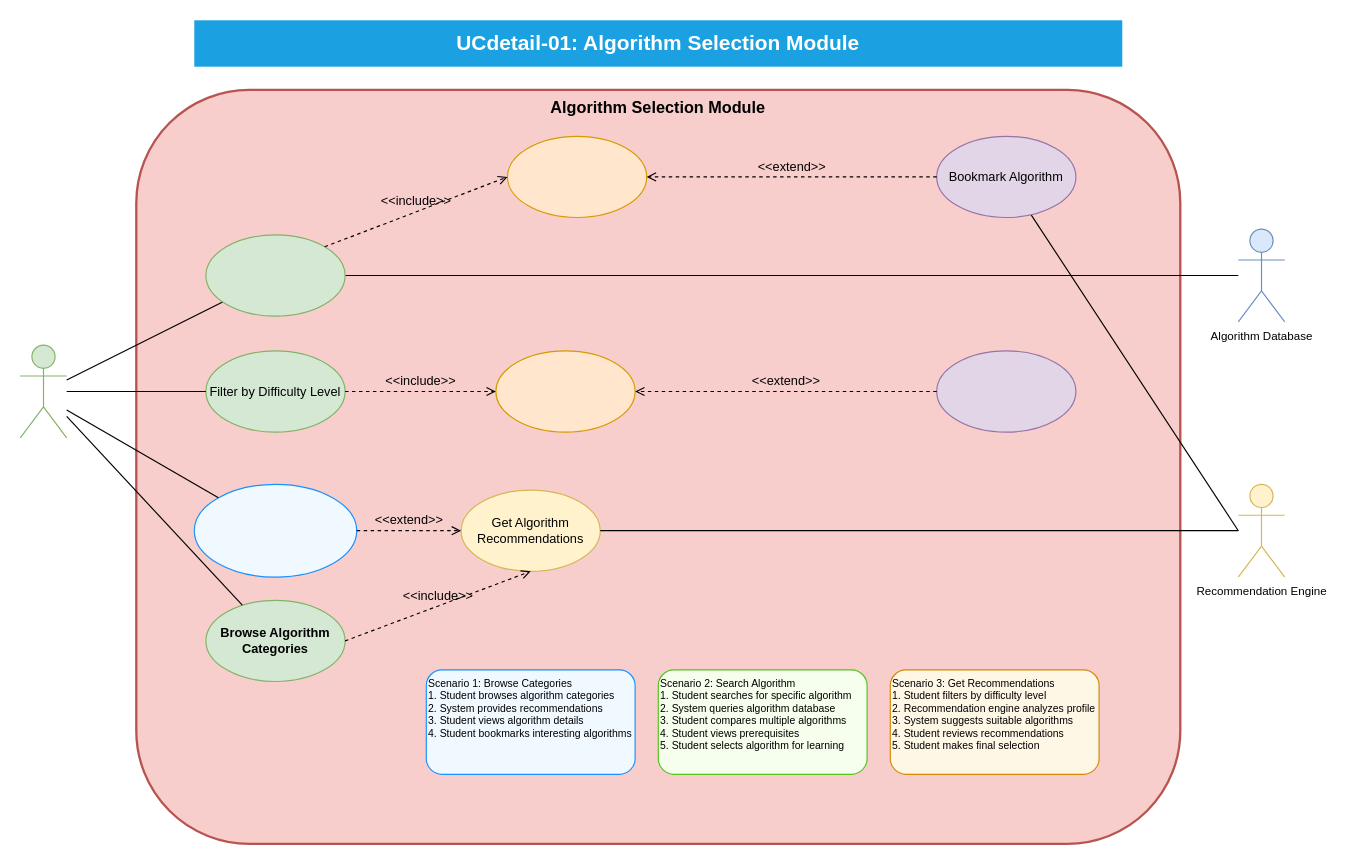
This 1347x864 diagram has some shape labels left out. Each missing label, with the centre of its shape:
"Compare Algorithms" belongs at point 565,391.
"Search for Specific Algorithm" belongs at point 275,275.
"Select Algorithm for Learning" belongs at point 275,530.
"Student" belongs at point 43,391.
"View Algorithm Details" belongs at point 576,176.
"View Prerequisites" belongs at point 1006,391.
